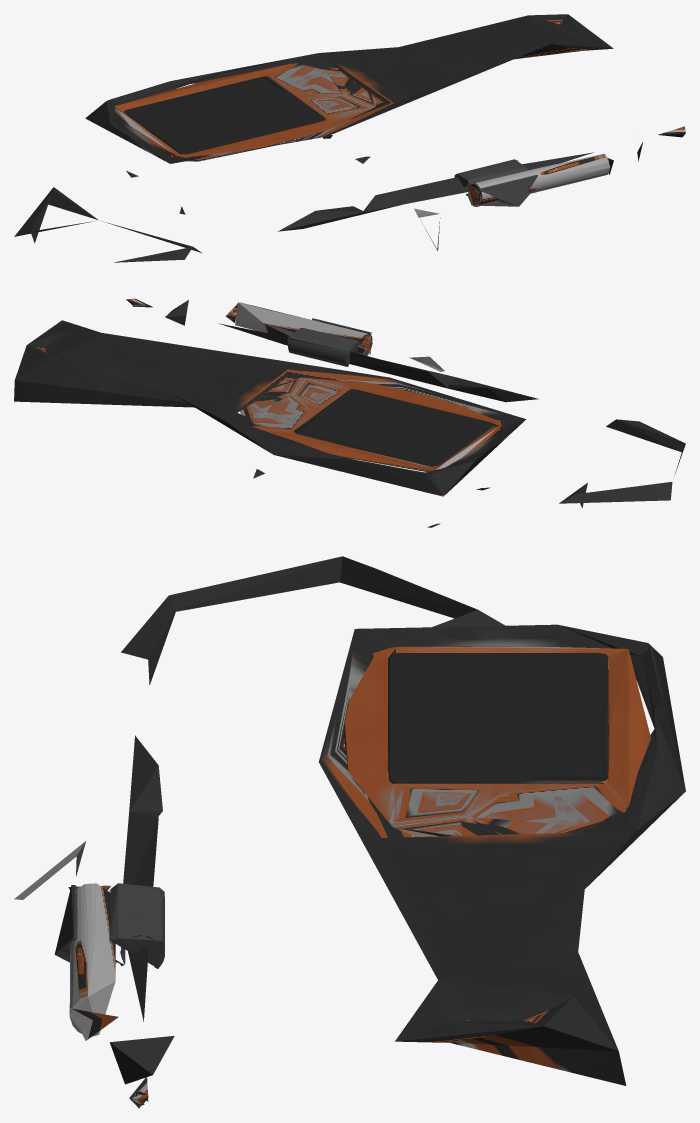
File: serviceTool_refrigerant_leak_detector_a01.glb
3 renders of one model, top to bottom at view 1: azimuth 30°, elevation 25°; view 2: azimuth 150°, elevation 25°; view 3: azimuth 270°, elevation 25°, orthographic. The views are drawn at different scales.
Visible parts, largest first — view 1: geometry_0; view 2: geometry_0; view 3: geometry_0.
Boxes of the visible parts, x1,y1,x2,y2 form: geometry_0: (14, 14, 685, 262); geometry_0: (14, 298, 685, 527); geometry_0: (14, 556, 685, 1108).
Bounding box in the file's own units: 0.42 × 0.0485 × 0.2194.
Materials: 1 (1 with a texture image).
